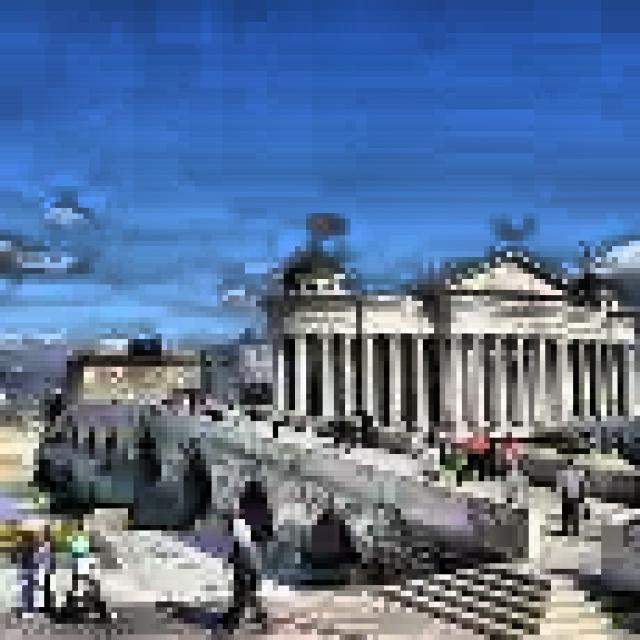stone bridge: (6, 381, 588, 593)
